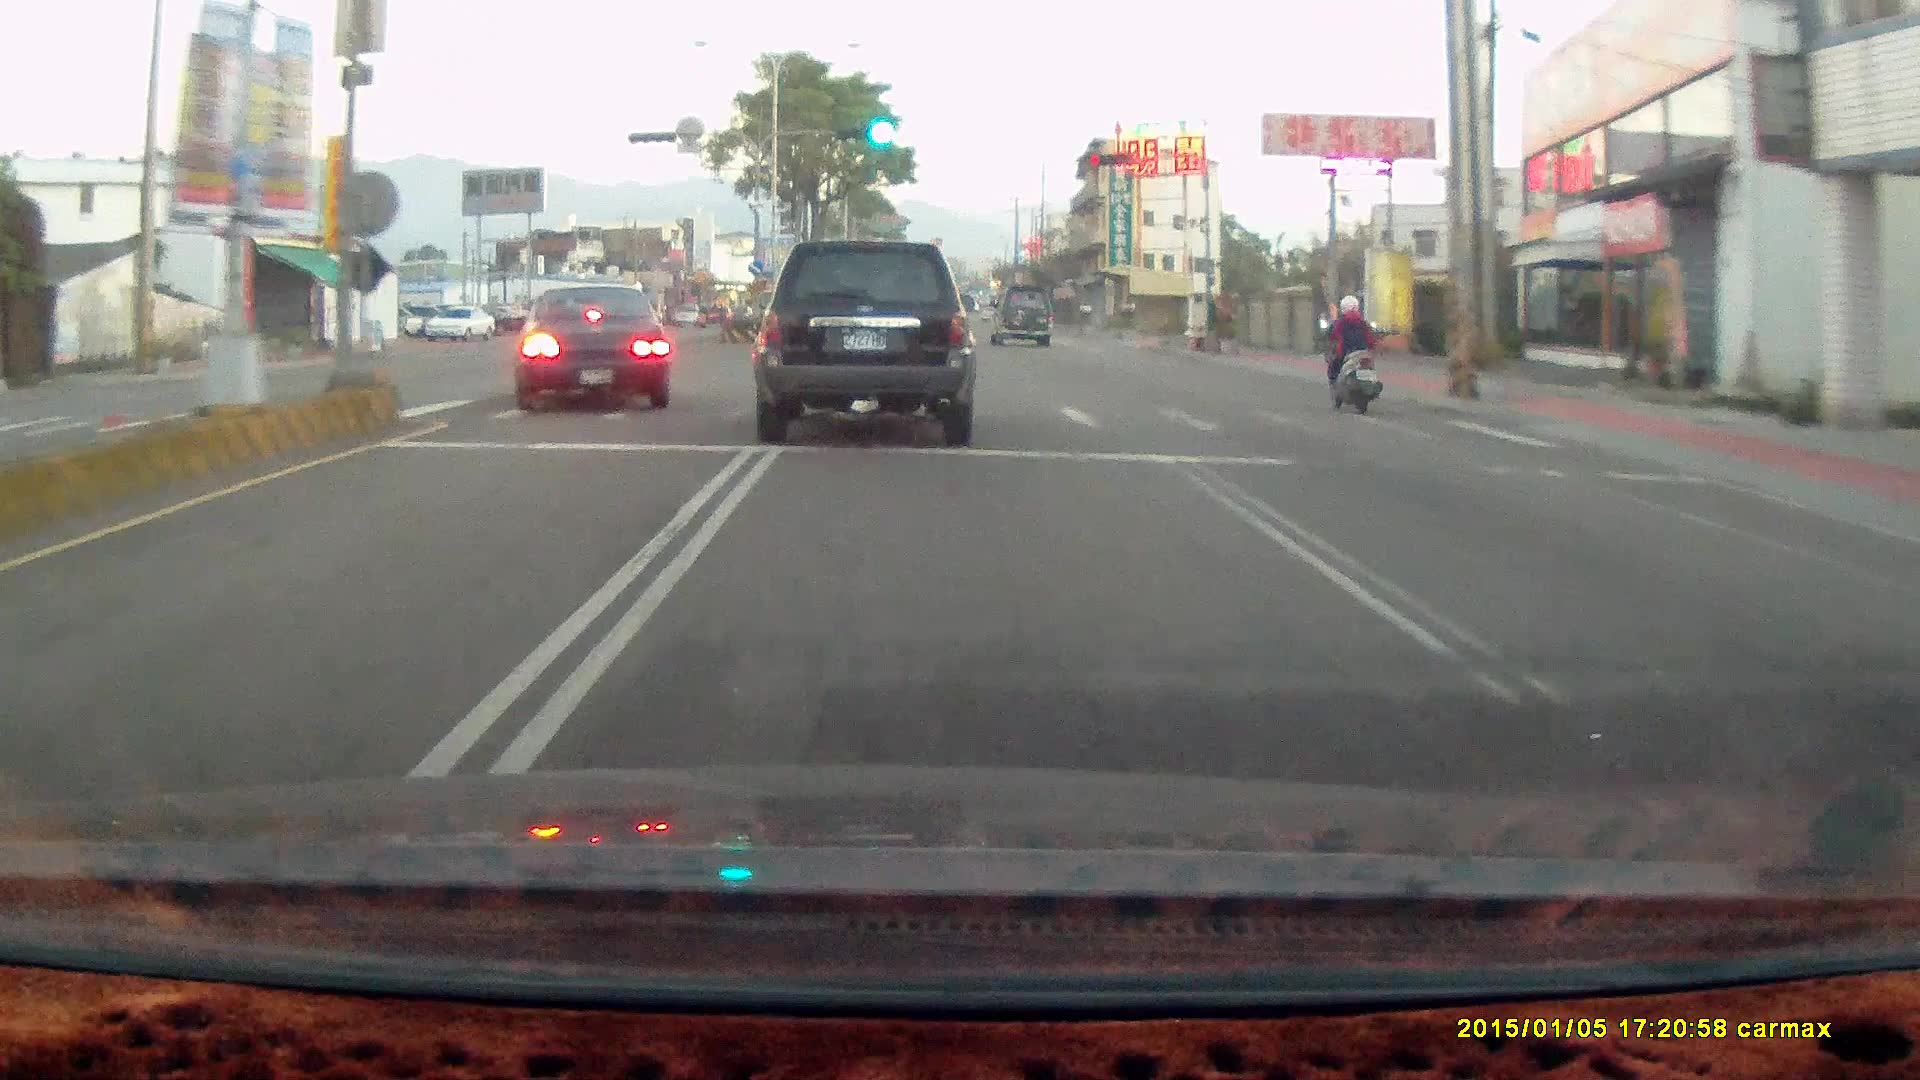rider: (1310, 282, 1396, 427), (1316, 293, 1381, 415)
vehicle: (756, 239, 981, 448), (752, 238, 976, 447), (510, 286, 674, 416), (507, 286, 671, 412), (990, 287, 1056, 352), (987, 281, 1052, 345), (423, 305, 494, 343)
